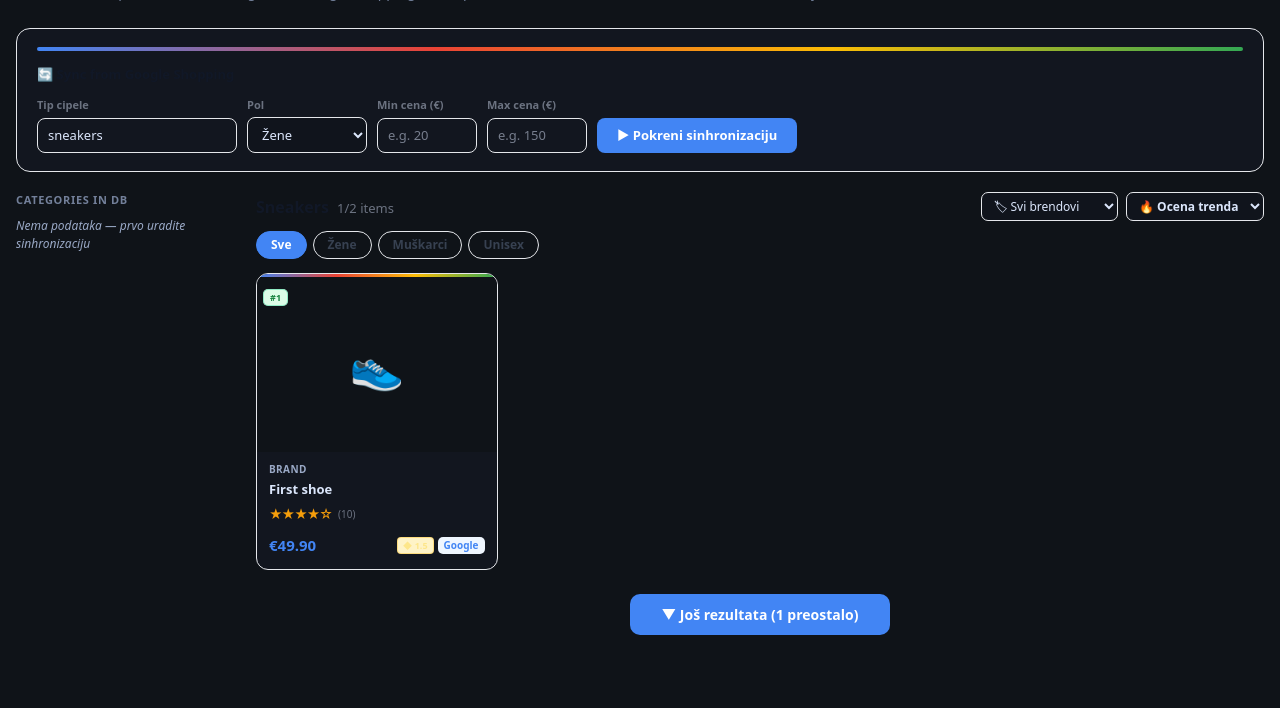
it: Google Shopping trends page loader errors (RQ655) › keeps loaded products and surfaces a failed next page
This screenshot has width=1280, height=708.
Expected: the link "First shoe" is shown, [269, 480, 332, 498]
Click the button "▼ Još rezultata (1 preostalo)" at (760, 614), box [630, 594, 890, 634]
(page scrolled)
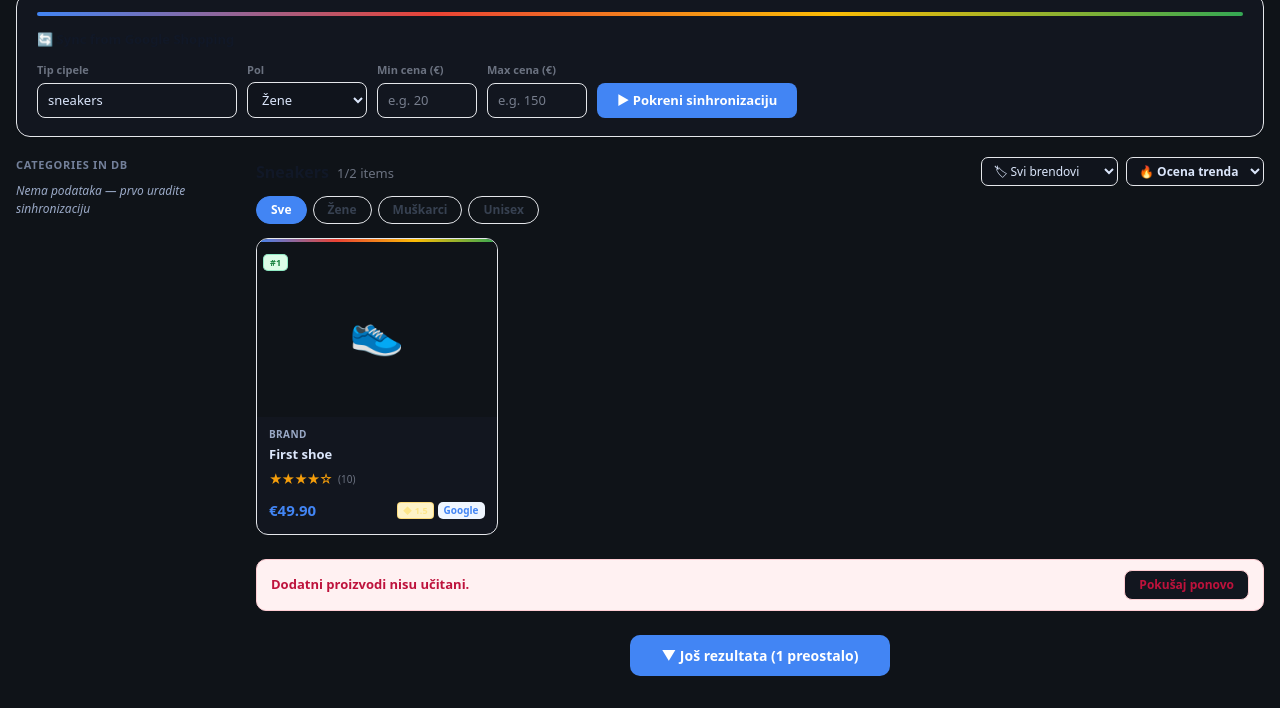
Expected: the link "First shoe" is shown, [269, 445, 332, 463]
Expected: the message shows "Dodatni proizvodi nisu učitani", [271, 575, 469, 593]
